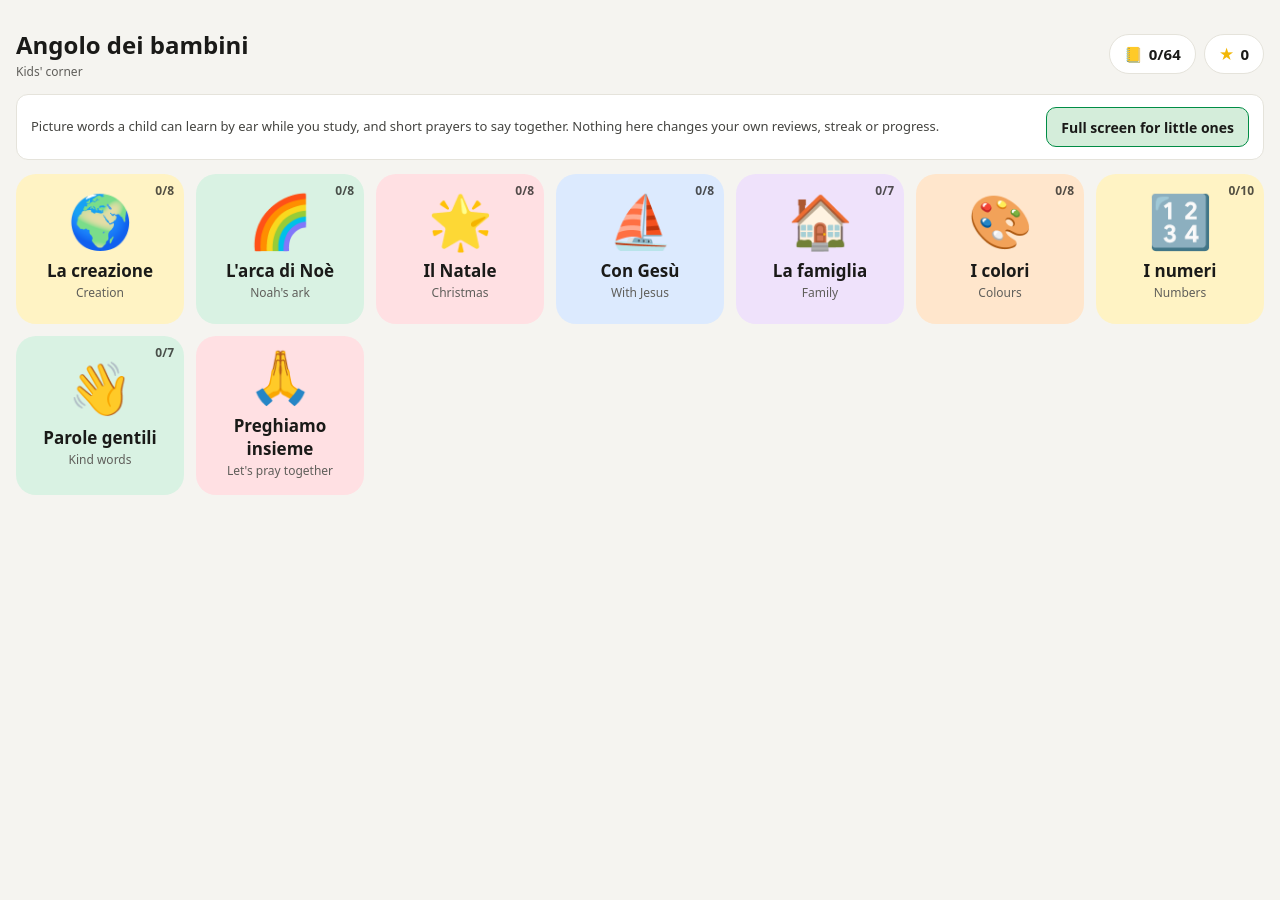
it: KidsTab › full screen stays on until a grown-up holds the exit button
A quick tap does nothing.
Click the button "Full screen for little ones".
click(1148, 127)  # box [1046, 107, 1249, 147]
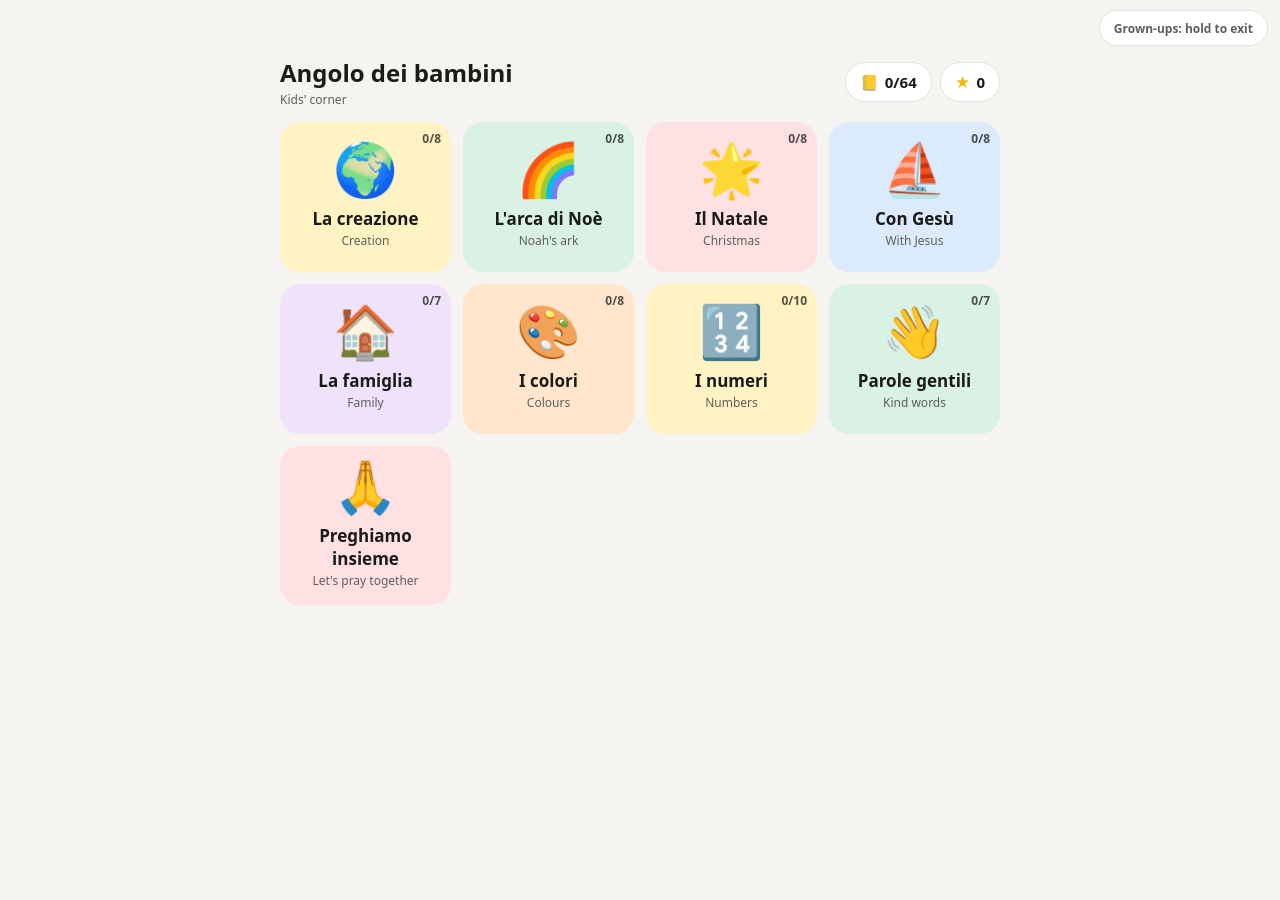
Press the mouse on the button "Grown-ups: hold to exit" at (1183, 28), box [1099, 10, 1268, 46]
Holding does.
Press the mouse on the button "Grown-ups: hold to exit" at (1183, 28), box [1099, 10, 1268, 46]
Wait 1510 ms
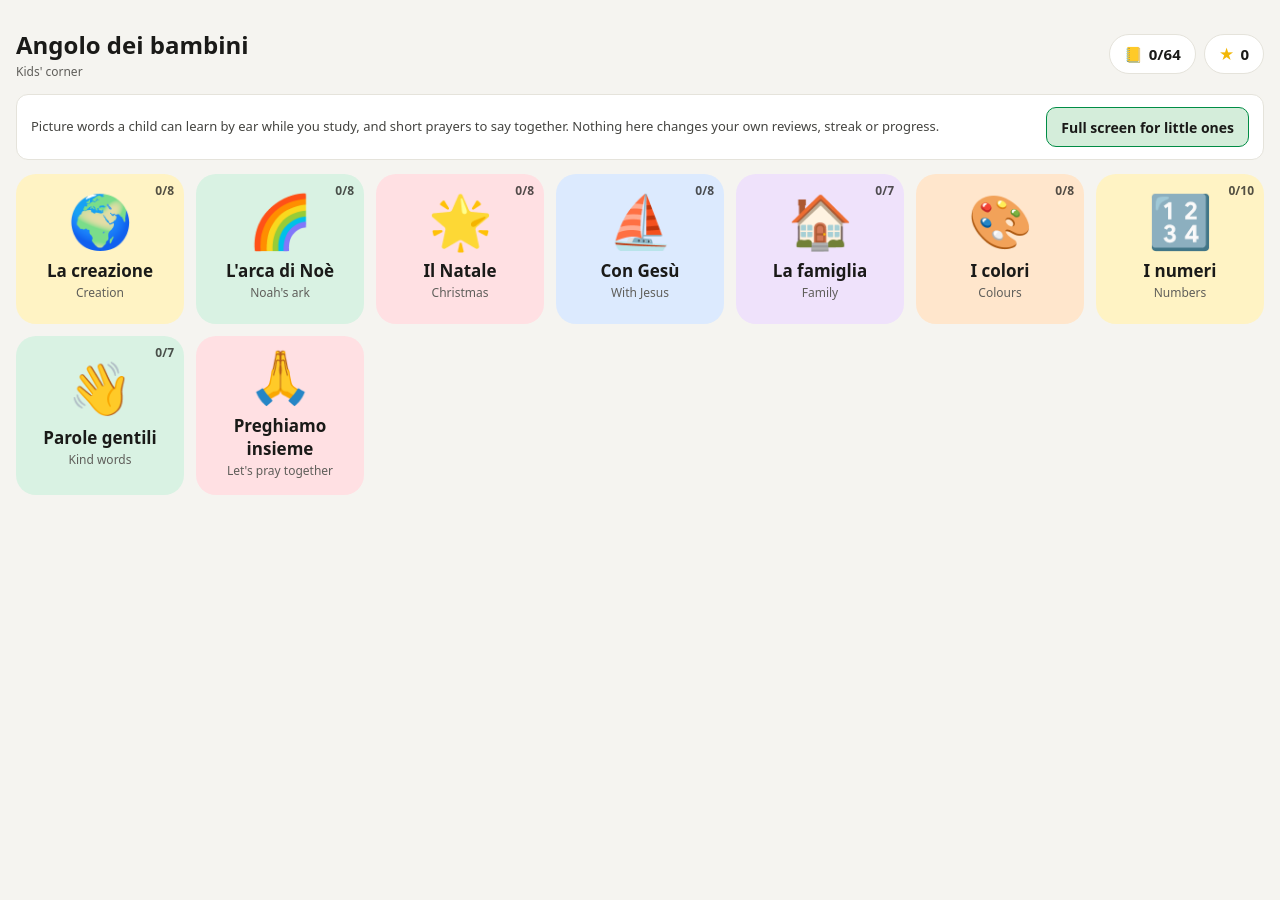
Result: the button "hold to exit" is gone
